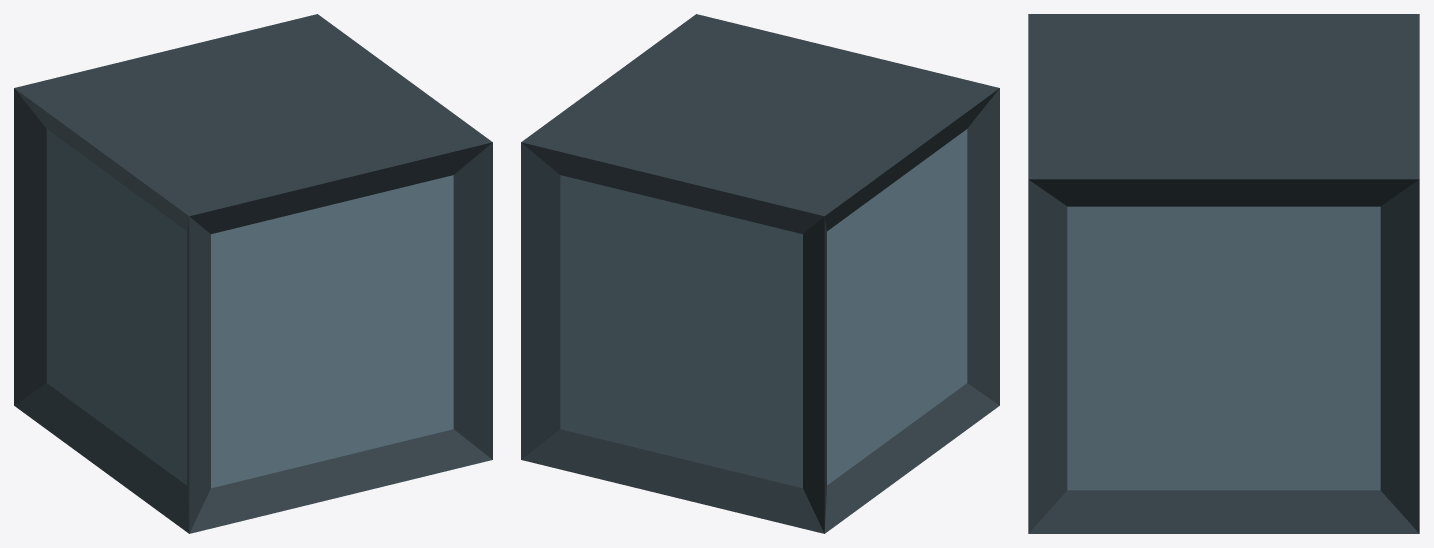
3 renders of one model, left to right at view 1: azimuth 30°, elevation 25°; view 2: azimuth 150°, elevation 25°; view 3: azimuth 270°, elevation 25°, orthographic. The views are drawn at different scales.
Visible parts, largest first — view 1: Box; view 2: Box; view 3: Box.
Boxes of the visible parts, x1=… form: Box: x1=14, y1=14, x2=492, y2=533; Box: x1=521, y1=14, x2=999, y2=533; Box: x1=1028, y1=14, x2=1419, y2=533.
Size of the model in its own units: 200 by 200 by 200.
Materials: 1 (1 with a texture image).
